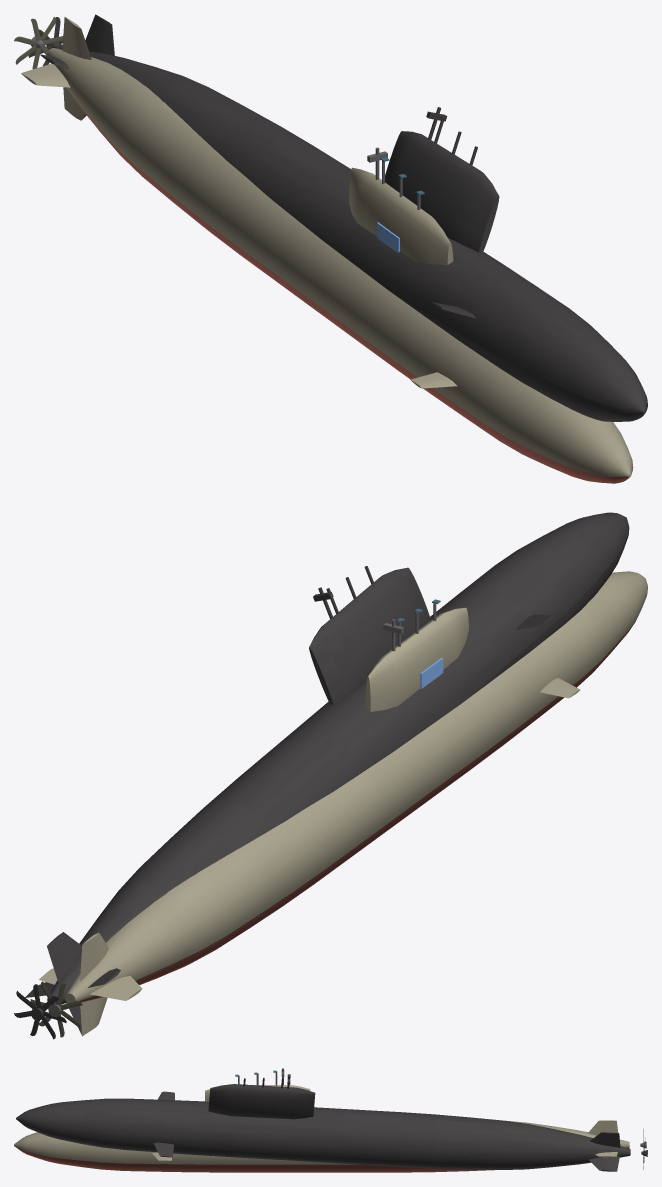
The model's file is submarine__scorpene_evolved.glb.
The picture shows the model from 3 angles, top to bottom: view 1: azimuth 30°, elevation 25°; view 2: azimuth 150°, elevation 25°; view 3: azimuth 270°, elevation 25°; orthographic projection. The views are drawn at different scales.
Visible parts, largest first — view 1: Hull_Mesh, Wreck; view 2: Wreck, Hull_Mesh; view 3: Wreck, Hull_Mesh.
Boxes of the visible parts, x1,y1,x2,y2 form: Hull_Mesh: (14,17,633,483); Wreck: (28,14,647,421); Wreck: (14,512,629,1039); Hull_Mesh: (30,571,647,1037); Wreck: (16,1074,647,1171); Hull_Mesh: (14,1070,646,1172).
Size of what is drawn, in the model's own units: 10.88 by 13.91 by 71.19.
